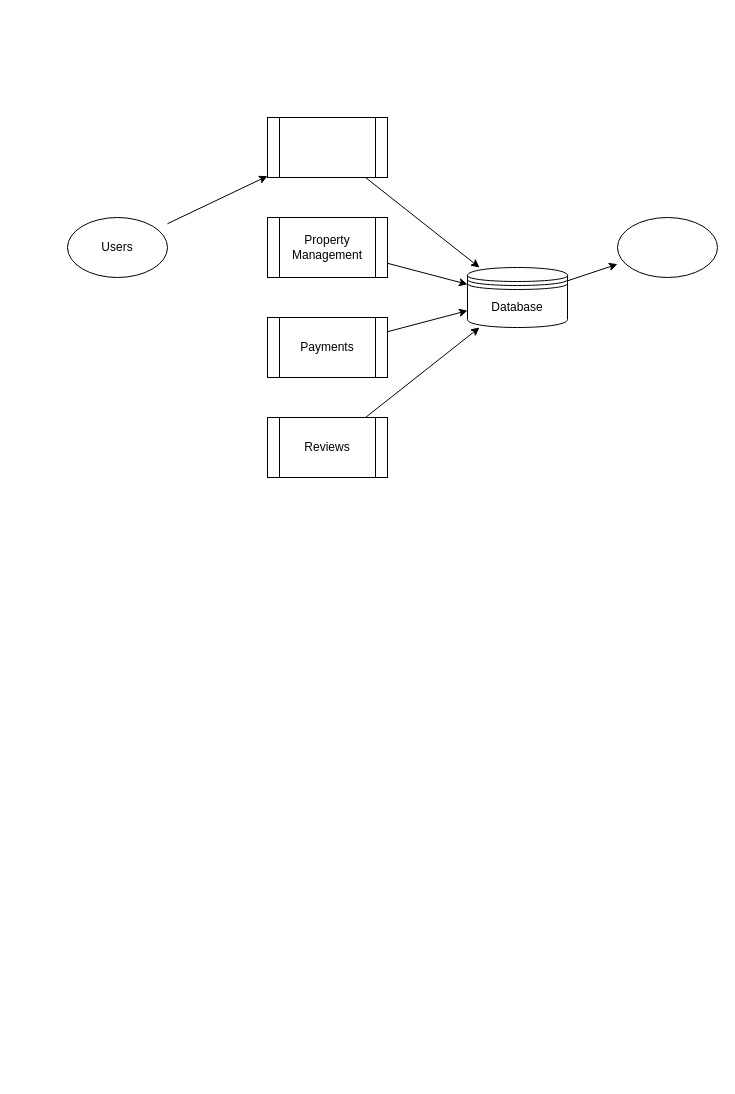
This 735x1094 diagram has some shape labels left out. The centre of each missing label's shape, as x and y in pixels:
Admin: the point at 667,247
Bookings: the point at 327,147
